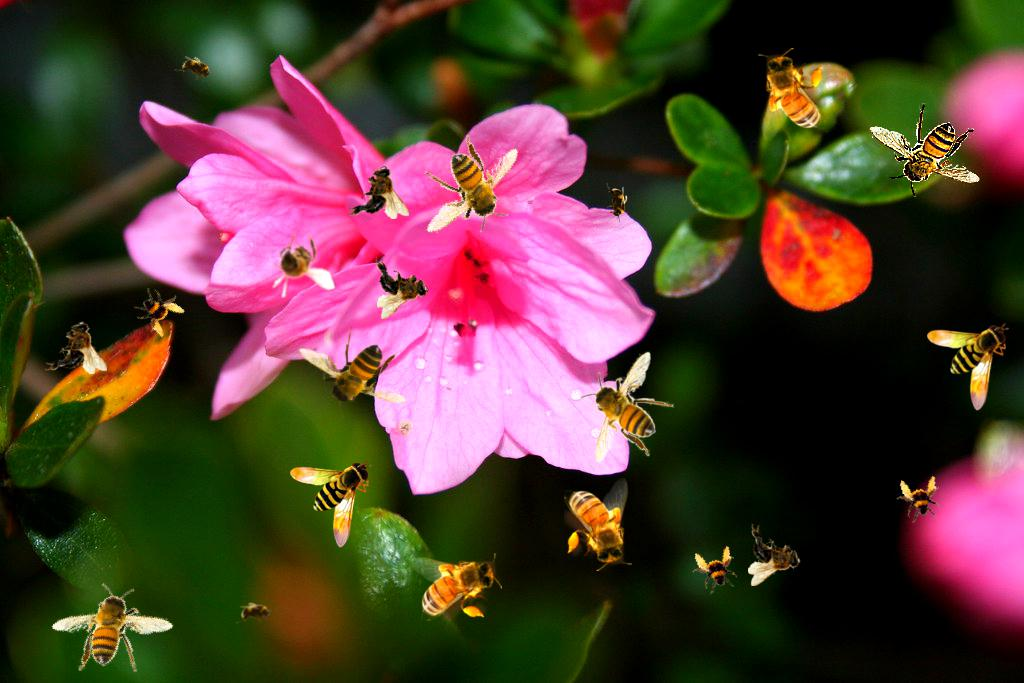Bee: (404, 119, 533, 259), (44, 563, 185, 683), (579, 350, 676, 464), (297, 324, 408, 418), (869, 103, 980, 197), (290, 460, 372, 548), (927, 323, 1009, 411), (256, 222, 337, 308), (758, 48, 826, 141), (564, 478, 632, 571), (409, 553, 502, 621), (371, 252, 432, 320), (128, 279, 190, 341), (347, 166, 409, 219), (45, 321, 107, 374), (748, 524, 801, 586), (687, 542, 743, 598), (892, 472, 946, 526), (174, 50, 220, 88), (236, 602, 276, 624), (606, 183, 628, 223)
